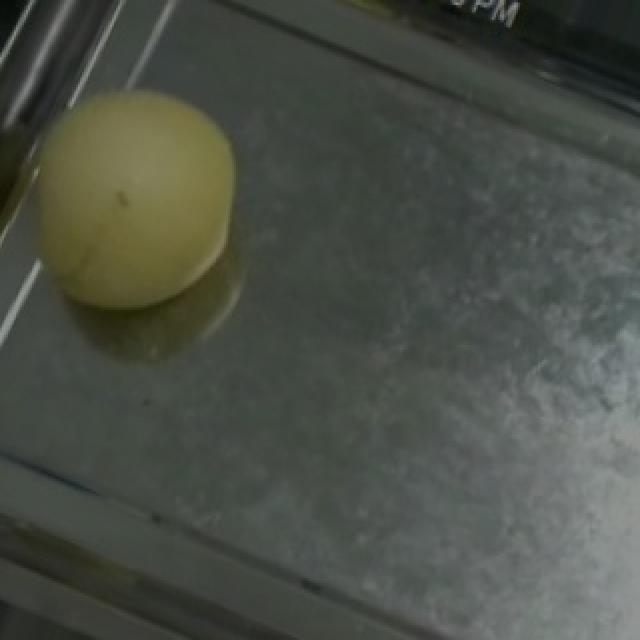Fruit: (0, 39, 290, 360)
